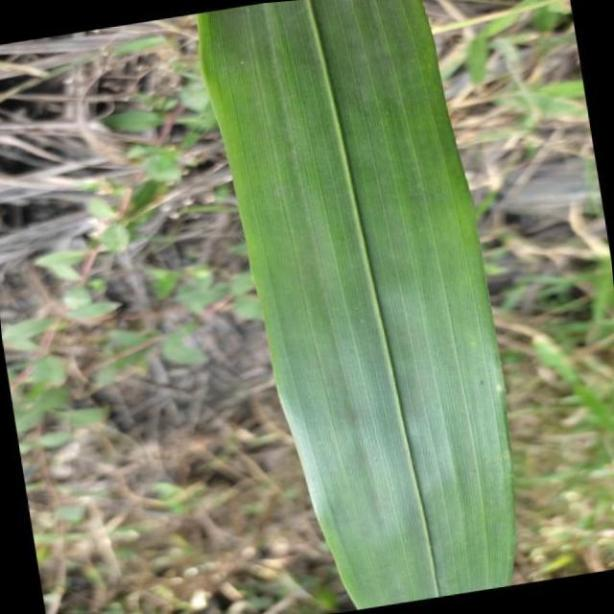Healthy: (197, 5, 515, 612)
